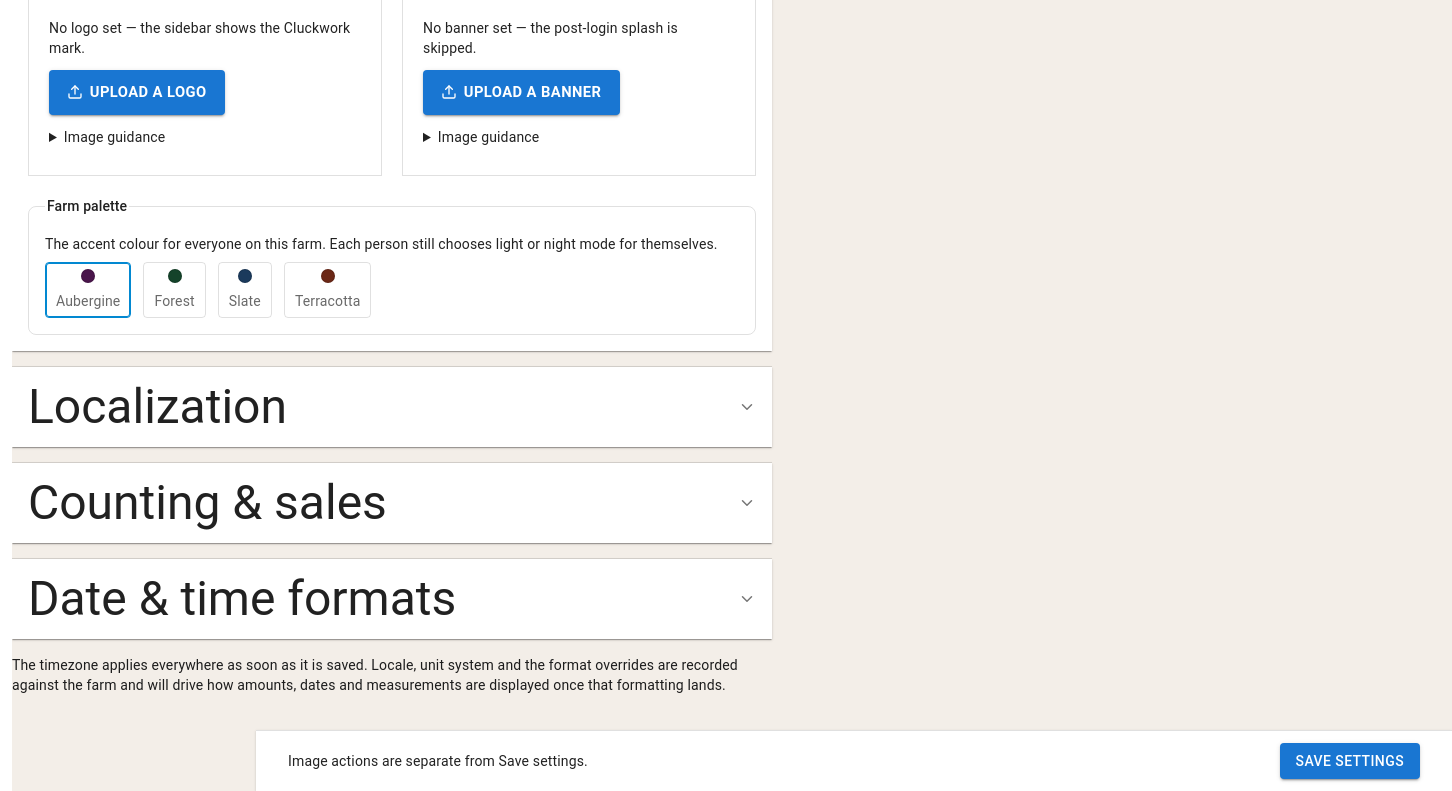
Scenario: SettingsPage loading › opens the date/time format dropdown on the matching preset, with no custom field, for a stored preset value (#452)
(page scrolled)
Click the button "Date & time formats" at (392, 599), box [12,559,772,639]
(page scrolled)
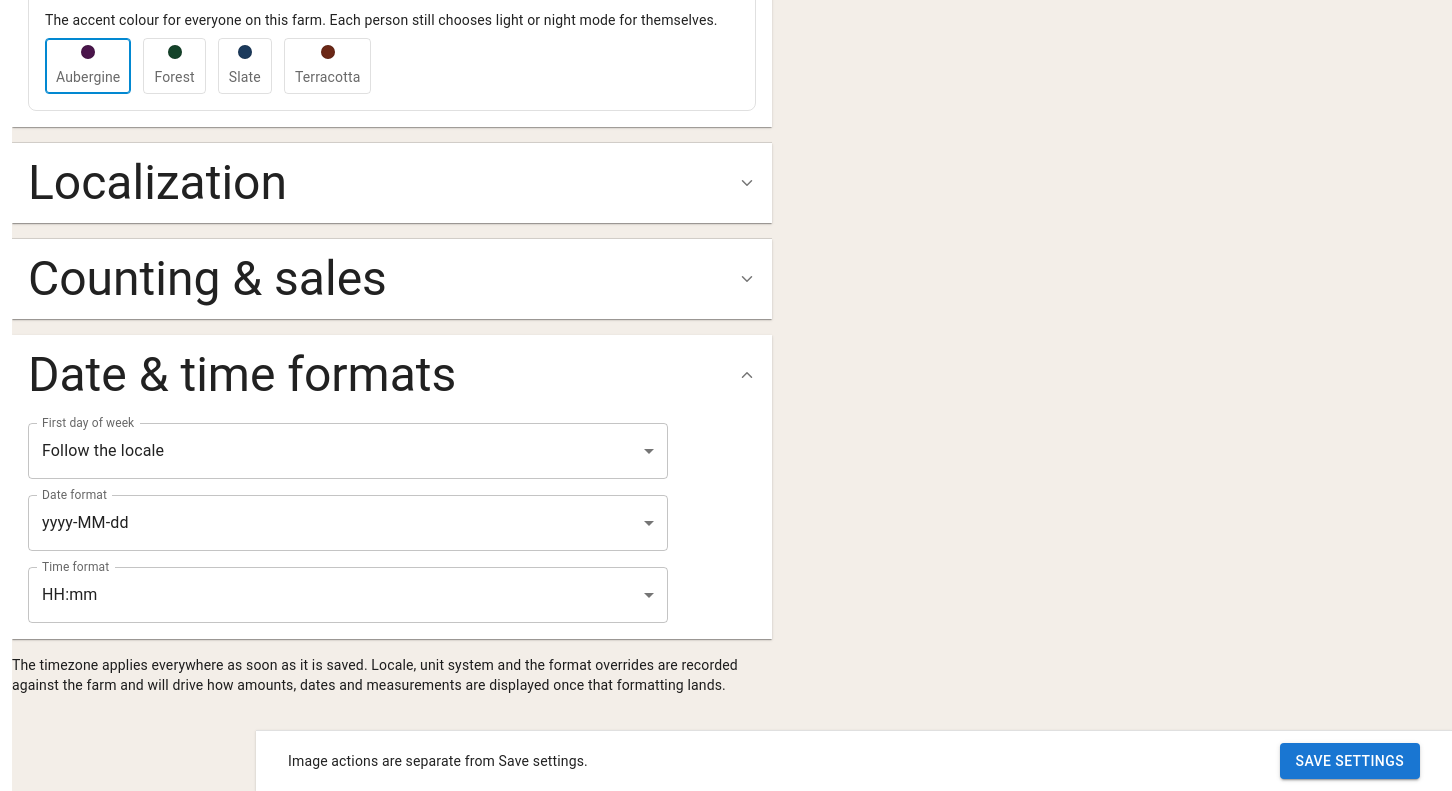
Result: the dropdown labelled "Date format" shows "yyyy-MM-dd" at [28,495,668,551]
Result: the dropdown labelled "Time format" shows "HH:mm" at [28,567,668,623]
